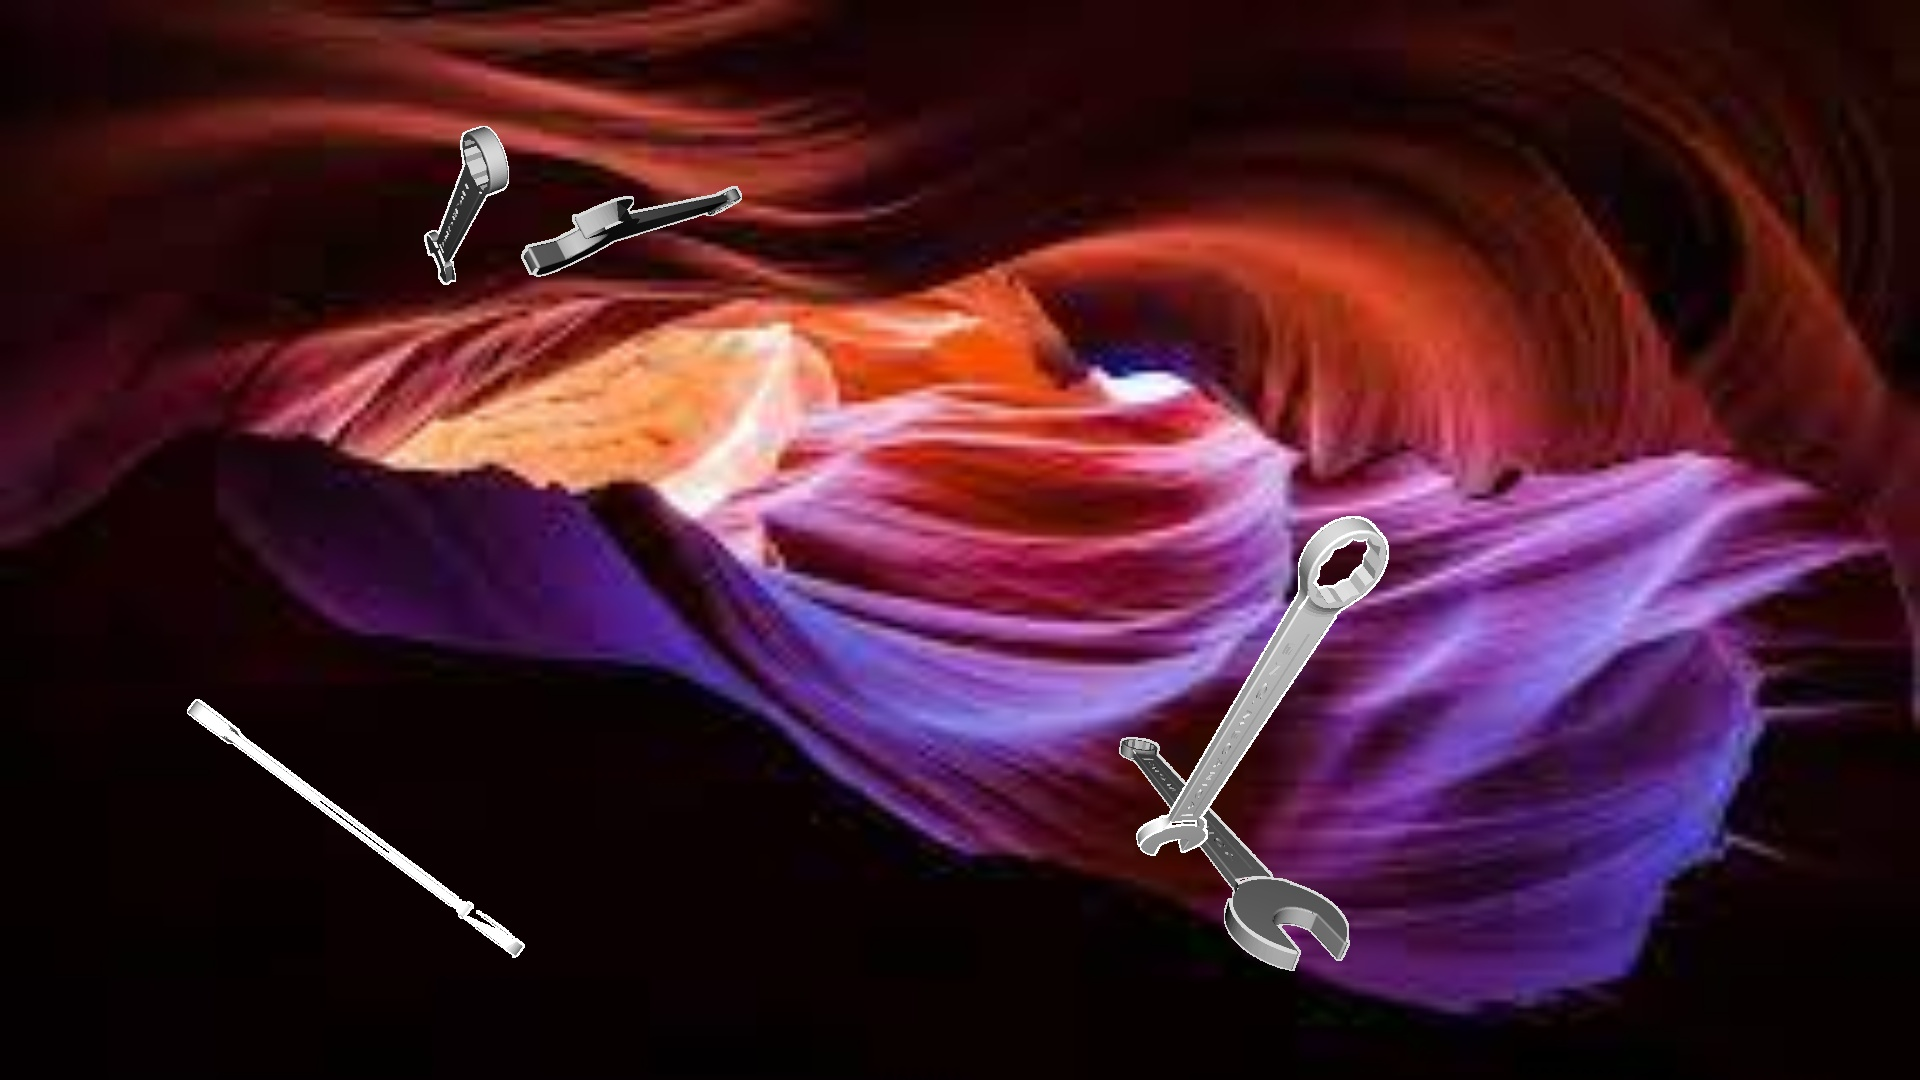Mixed Key: (187, 699, 524, 957), (1135, 516, 1389, 855), (1120, 737, 1349, 971), (521, 186, 741, 276), (425, 127, 508, 284)
